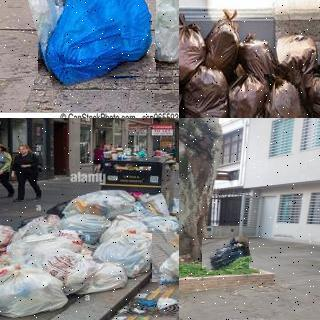Garbage: (32, 0, 161, 83), (0, 256, 69, 314), (121, 0, 179, 62), (97, 220, 153, 276), (179, 64, 237, 118), (258, 71, 318, 118), (38, 244, 96, 292), (62, 184, 139, 220), (202, 4, 242, 68), (226, 69, 275, 118), (179, 10, 204, 86), (272, 33, 317, 75), (201, 235, 250, 272), (149, 228, 179, 287), (0, 223, 13, 252)
